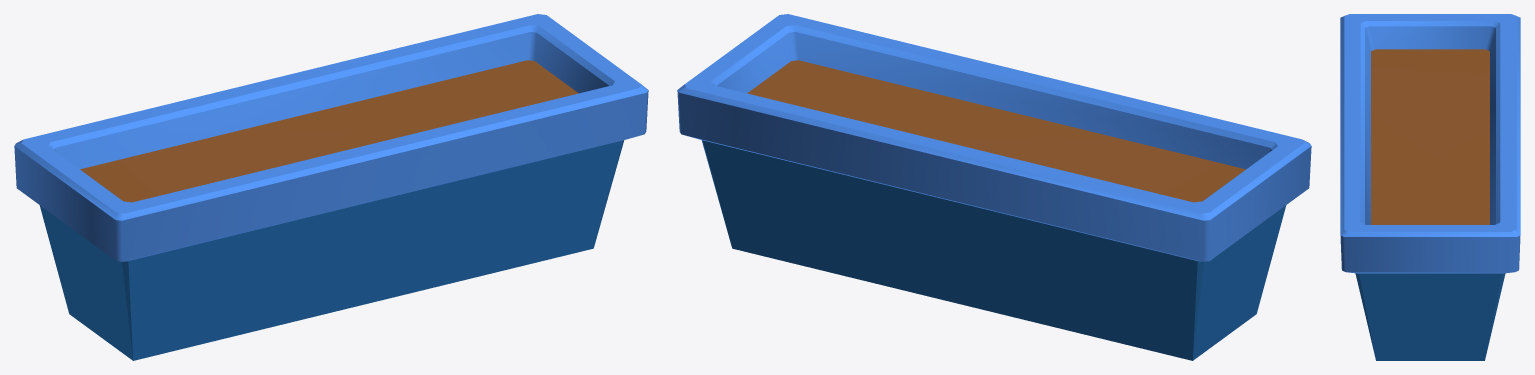
The model's file is PlantPot_3_D.glb.
The picture shows the model from 3 angles, left to right: view 1: azimuth 30°, elevation 25°; view 2: azimuth 150°, elevation 25°; view 3: azimuth 270°, elevation 25°; orthographic projection. The views are drawn at different scales.
Parts seen in each view (by area): view 1: PlantPot_3_D; view 2: PlantPot_3_D; view 3: PlantPot_3_D.
Part boxes in pixels (x1=…): PlantPot_3_D: x1=14, y1=14, x2=648, y2=360; PlantPot_3_D: x1=677, y1=14, x2=1311, y2=360; PlantPot_3_D: x1=1340, y1=14, x2=1520, y2=360.
Bounding box in the file's own units: 0.7988 × 0.24 × 0.2748.
1 material, 1 textured.
